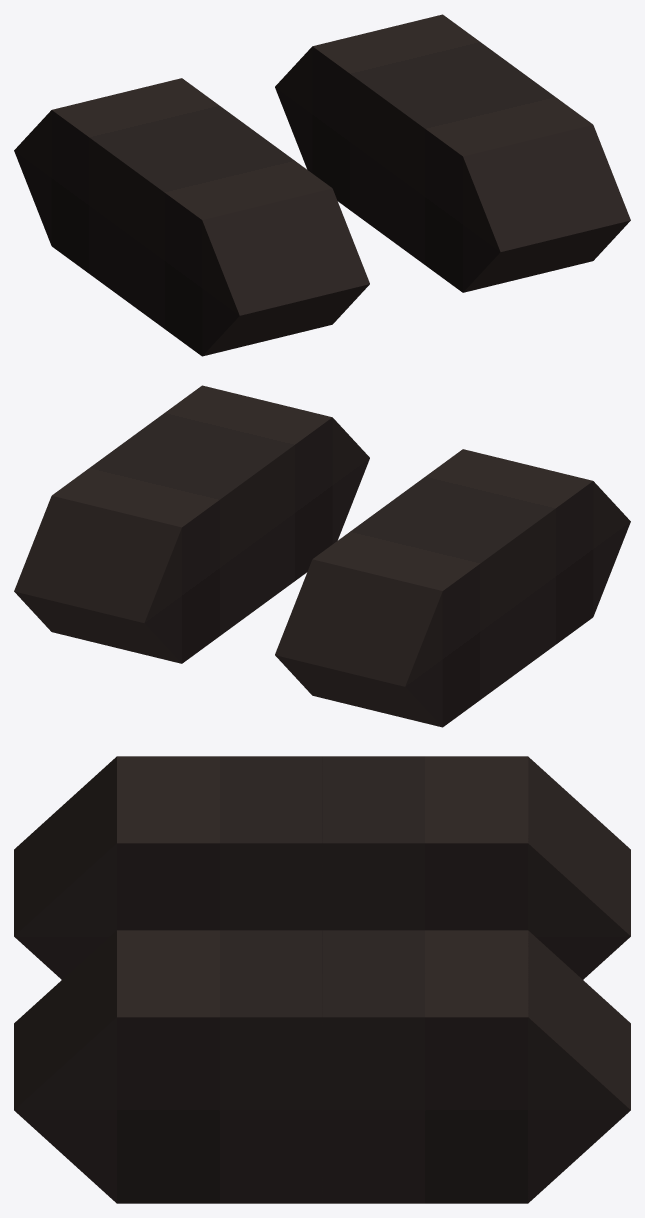
The model's file is pelvis_ender.obj.
3 renders of one model, top to bottom at view 1: azimuth 30°, elevation 25°; view 2: azimuth 150°, elevation 25°; view 3: azimuth 270°, elevation 25°, orthographic. The views are drawn at different scales.
Parts seen in each view (by area): view 1: LEG_ENDER_PELVIS_Cube.019; view 2: LEG_ENDER_PELVIS_Cube.019; view 3: LEG_ENDER_PELVIS_Cube.019.
Part boxes in pixels (x1,y1,x2,y2): LEG_ENDER_PELVIS_Cube.019: (14, 14, 630, 356); LEG_ENDER_PELVIS_Cube.019: (14, 385, 630, 727); LEG_ENDER_PELVIS_Cube.019: (14, 756, 630, 1203).
Bounding box in the file's own units: 0.375 × 0.125 × 0.375.
